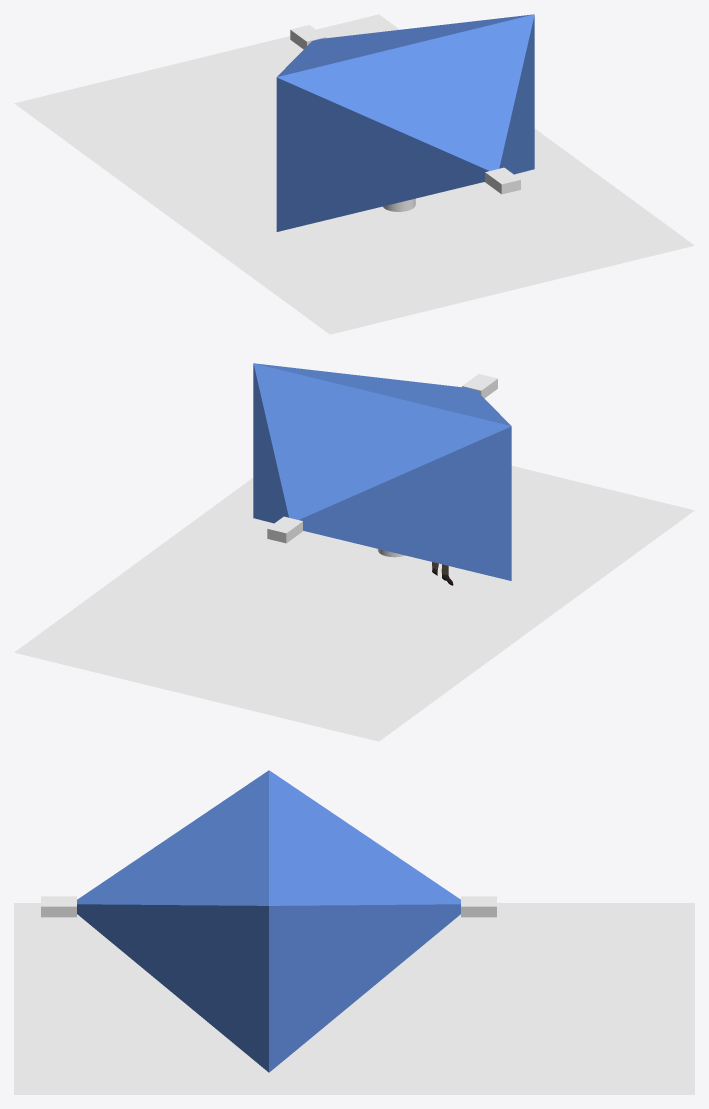
File: SET_20_PogoPersona.obj
The picture shows the model from 3 angles, top to bottom: view 1: azimuth 30°, elevation 25°; view 2: azimuth 150°, elevation 25°; view 3: azimuth 270°, elevation 25°; orthographic projection. The views are drawn at different scales.
Visible parts, largest first — view 1: Mesh2 Component_9_1 Model, Mesh3 Component_67_1 Component_66_1 Component_65_1 Model, Mesh7 Component_67_2 Component_66_2 Component_65_2 Model, Mesh4 Component_6_1 Component_66_1 Component_65_1 Model, Mesh8 Component_6_2 Component_66_2 Component_65_2 Model; view 2: Mesh2 Component_9_1 Model, Mesh7 Component_67_2 Component_66_2 Component_65_2 Model, Mesh3 Component_67_1 Component_66_1 Component_65_1 Model, Mesh8 Component_6_2 Component_66_2 Component_65_2 Model; view 3: Mesh2 Component_9_1 Model, Mesh7 Component_67_2 Component_66_2 Component_65_2 Model, Mesh3 Component_67_1 Component_66_1 Component_65_1 Model, Mesh4 Component_6_1 Component_66_1 Component_65_1 Model, Mesh8 Component_6_2 Component_66_2 Component_65_2 Model.
Boxes of the visible parts, bbox=[...] form: Mesh2 Component_9_1 Model: bbox=[14, 14, 694, 334]; Mesh3 Component_67_1 Component_66_1 Component_65_1 Model: bbox=[276, 14, 534, 231]; Mesh7 Component_67_2 Component_66_2 Component_65_2 Model: bbox=[277, 14, 533, 76]; Mesh4 Component_6_1 Component_66_1 Component_65_1 Model: bbox=[485, 167, 520, 194]; Mesh8 Component_6_2 Component_66_2 Component_65_2 Model: bbox=[290, 25, 326, 49]; Mesh2 Component_9_1 Model: bbox=[14, 466, 694, 741]; Mesh7 Component_67_2 Component_66_2 Component_65_2 Model: bbox=[253, 363, 511, 580]; Mesh3 Component_67_1 Component_66_1 Component_65_1 Model: bbox=[254, 363, 510, 425]; Mesh8 Component_6_2 Component_66_2 Component_65_2 Model: bbox=[267, 516, 302, 543]; Mesh2 Component_9_1 Model: bbox=[14, 903, 694, 1094]; Mesh7 Component_67_2 Component_66_2 Component_65_2 Model: bbox=[269, 770, 460, 1072]; Mesh3 Component_67_1 Component_66_1 Component_65_1 Model: bbox=[77, 770, 268, 1072]; Mesh4 Component_6_1 Component_66_1 Component_65_1 Model: bbox=[41, 896, 76, 917]; Mesh8 Component_6_2 Component_66_2 Component_65_2 Model: bbox=[461, 896, 496, 917].
Bounding box in the file's own units: 5000 × 2031 × 7500.
